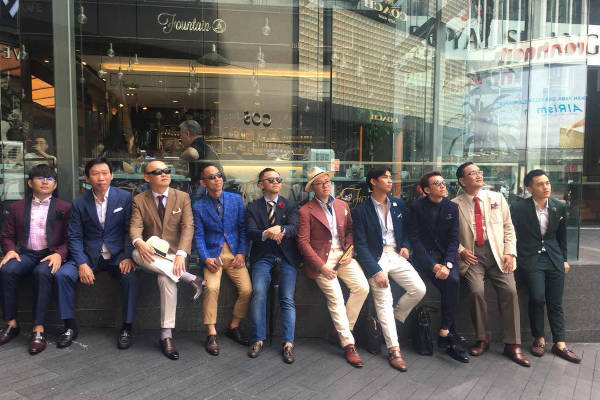feet: (52, 315, 139, 352), (467, 329, 535, 369), (522, 329, 588, 366), (323, 324, 370, 370), (247, 328, 301, 366), (431, 318, 474, 363), (1, 320, 52, 357), (201, 319, 253, 355), (376, 323, 412, 372), (154, 323, 187, 363)
